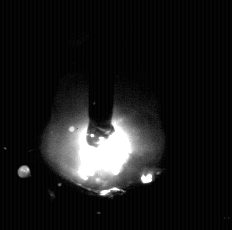arame: (88, 0, 115, 146)
poca: (41, 0, 164, 230)
